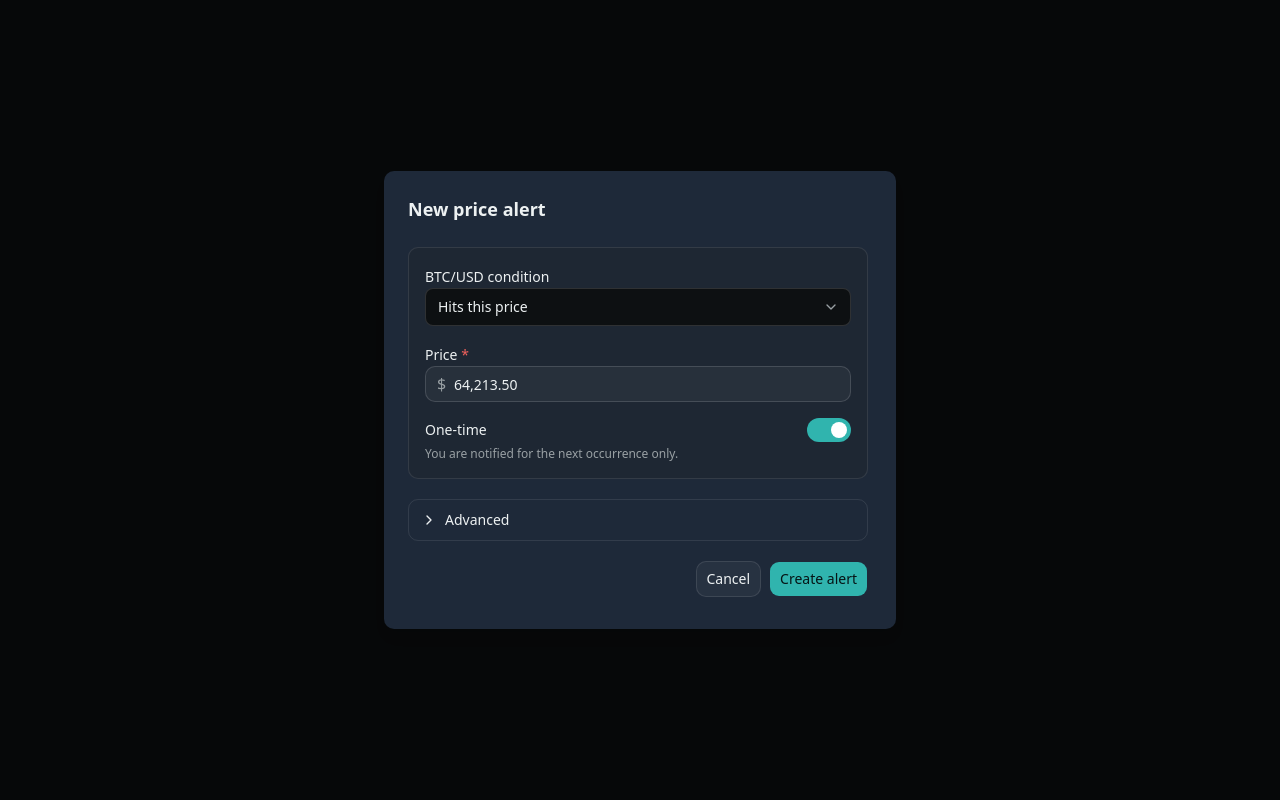
PriceAlertForm › requires at least one notification channel
This screenshot has width=1280, height=800.
Type "85000" into the field labelled "Price *".
click(638, 384); type("85000")  # box [425,366,851,402]
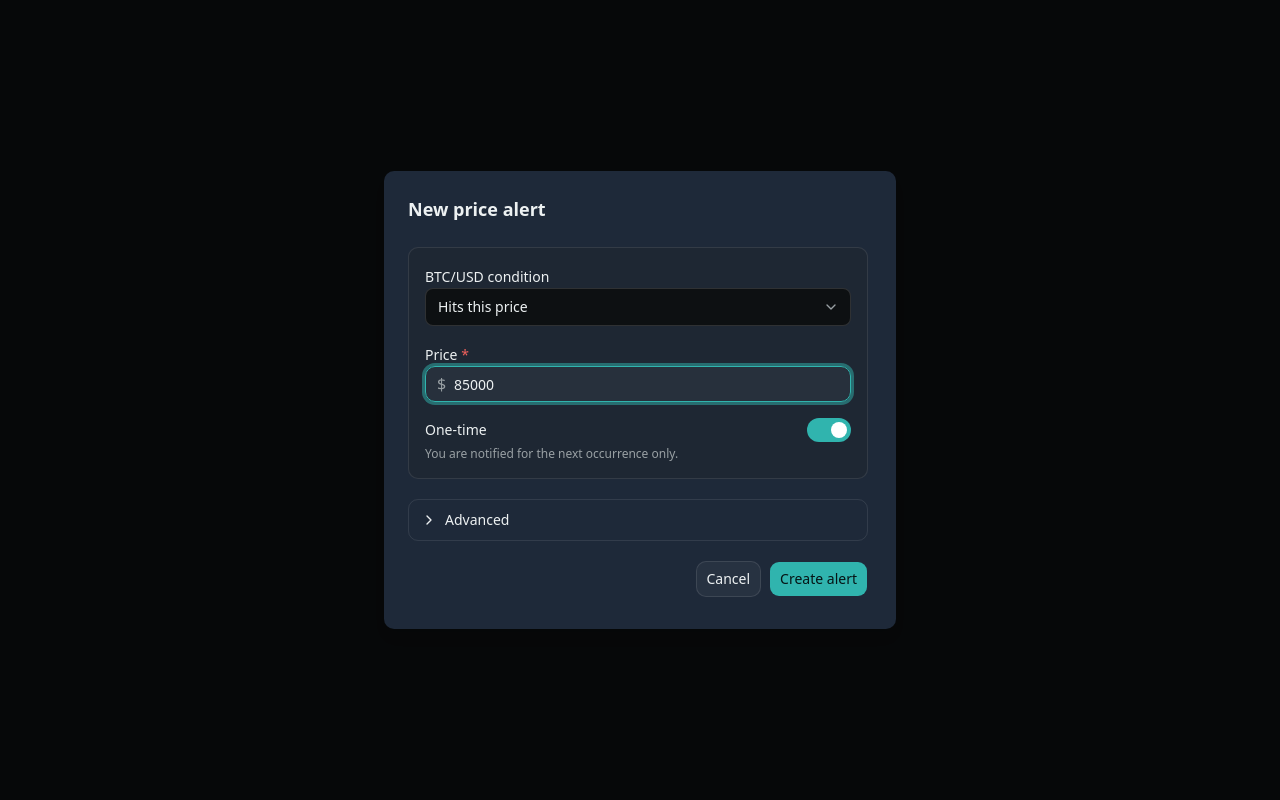
Press Tab
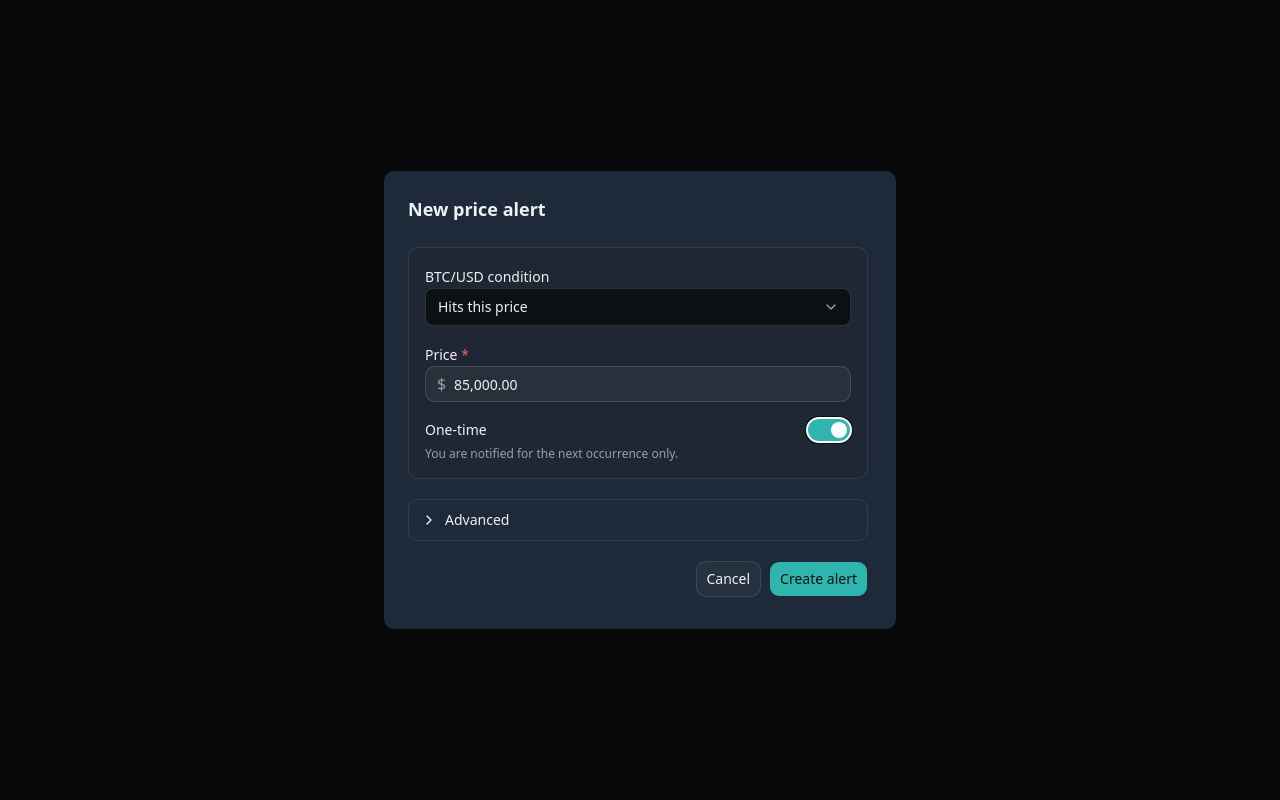
Click the button "Advanced".
click(477, 520)  # box [409,500,867,540]
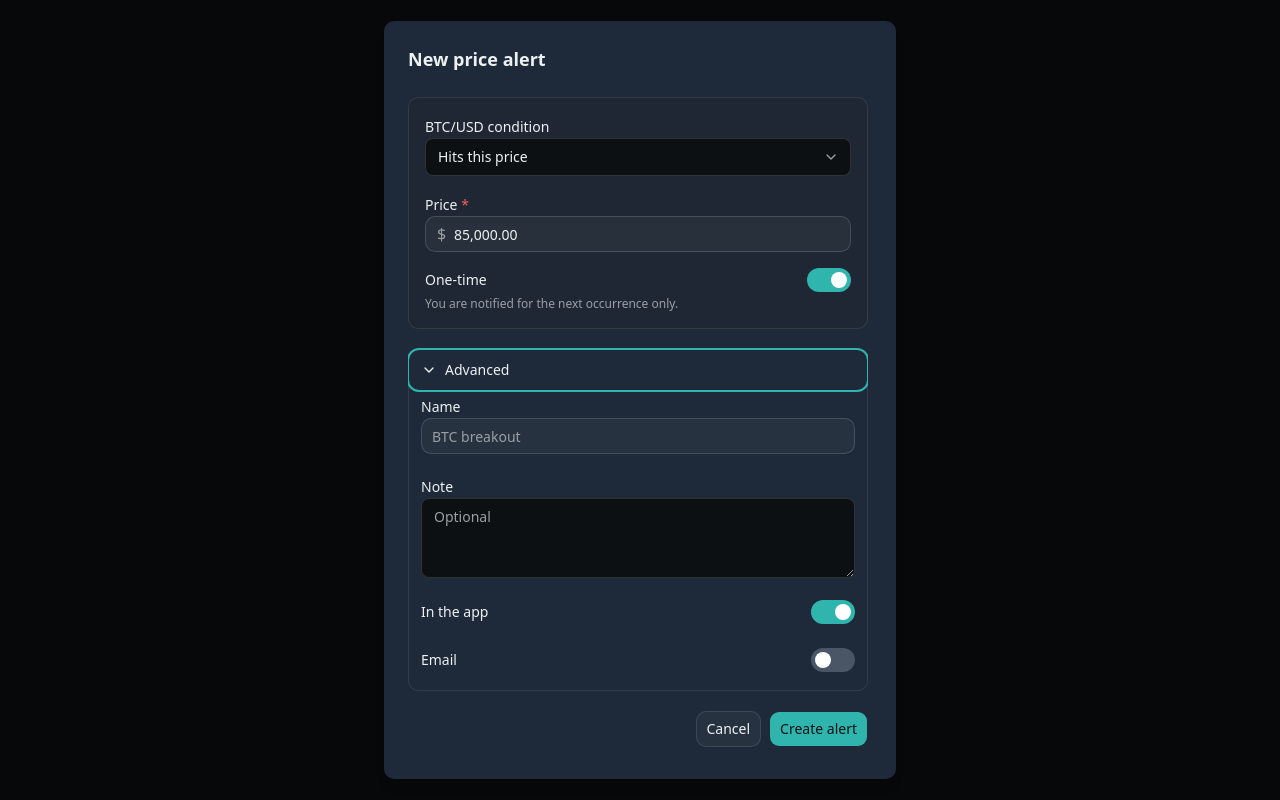
Click the switch named "In the app" in the row of "In the app".
click(833, 612)  # box [811,600,855,624]
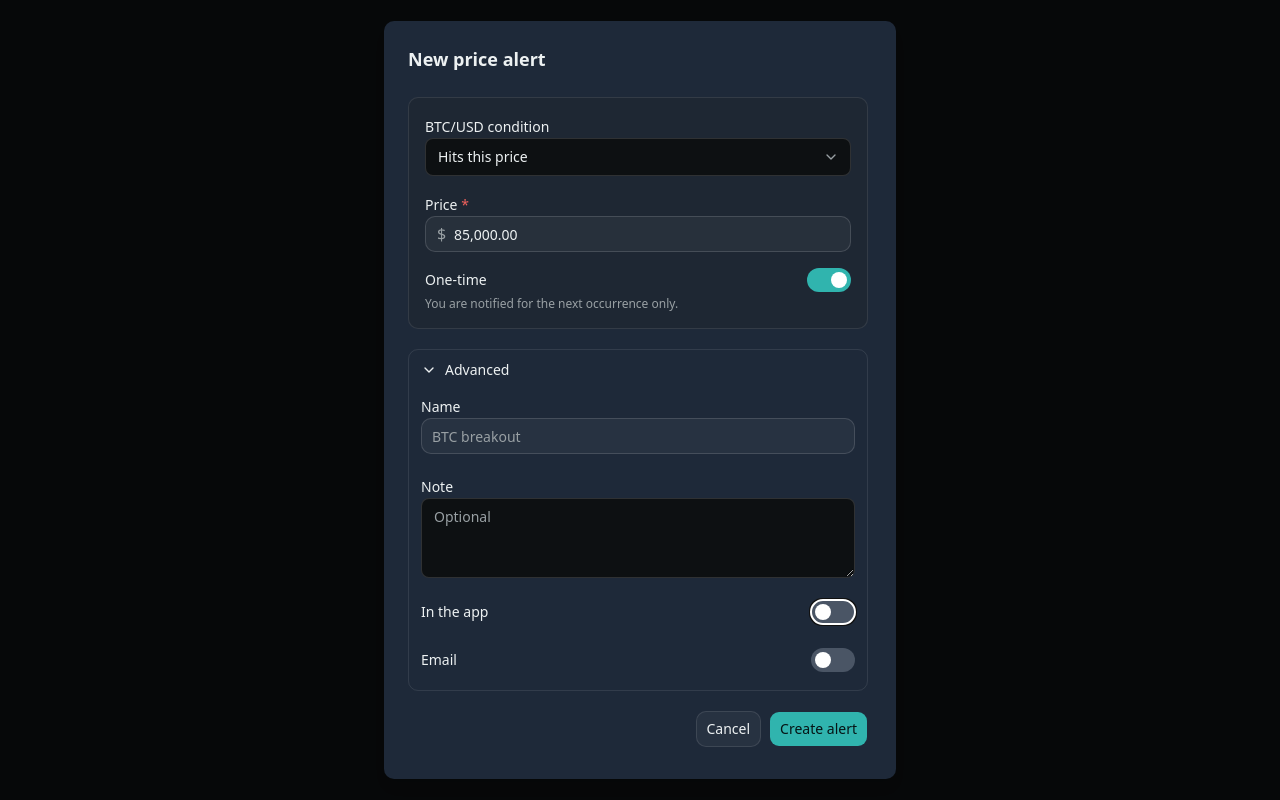
Click the button "Create alert".
click(819, 729)  # box [769,711,868,747]
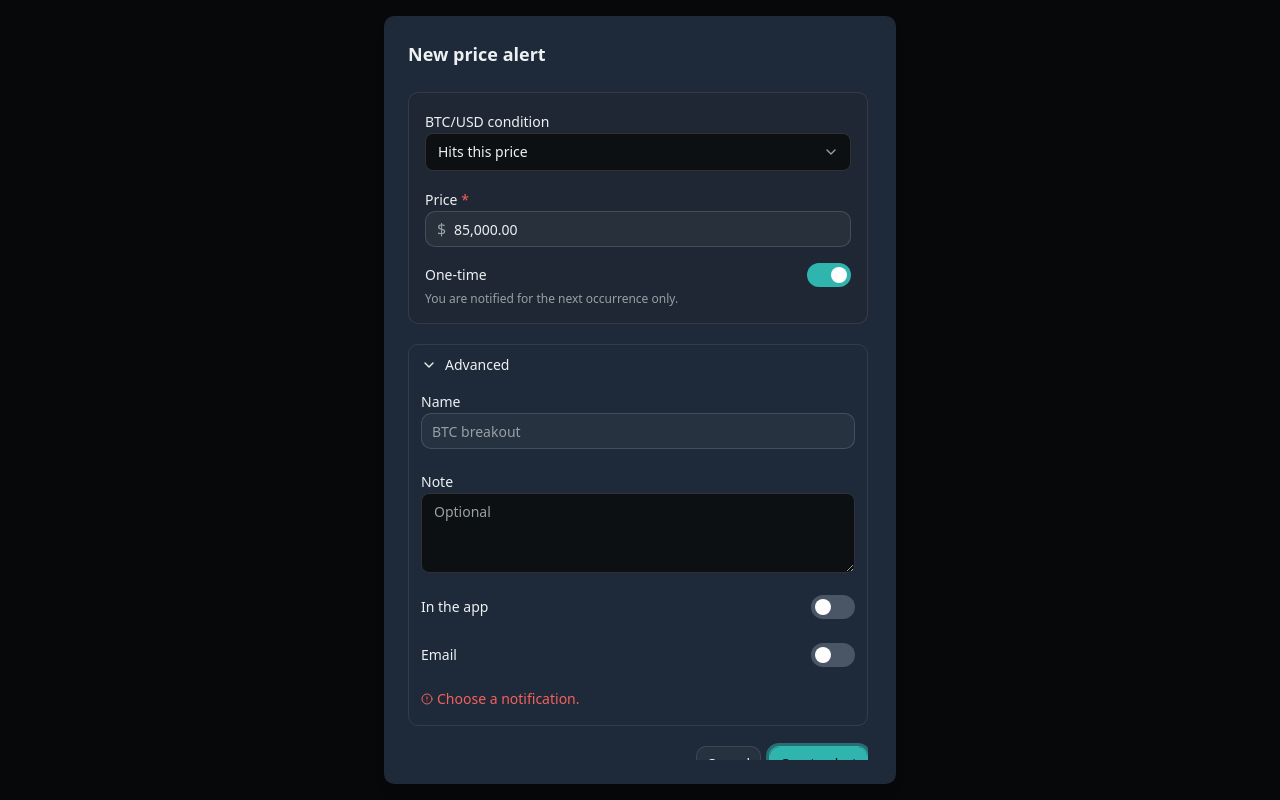
Now the button "Advanced" is expanded, box [409,345,867,385]
Now the text "Choose a notification." is shown, box [421,689,580,708]
